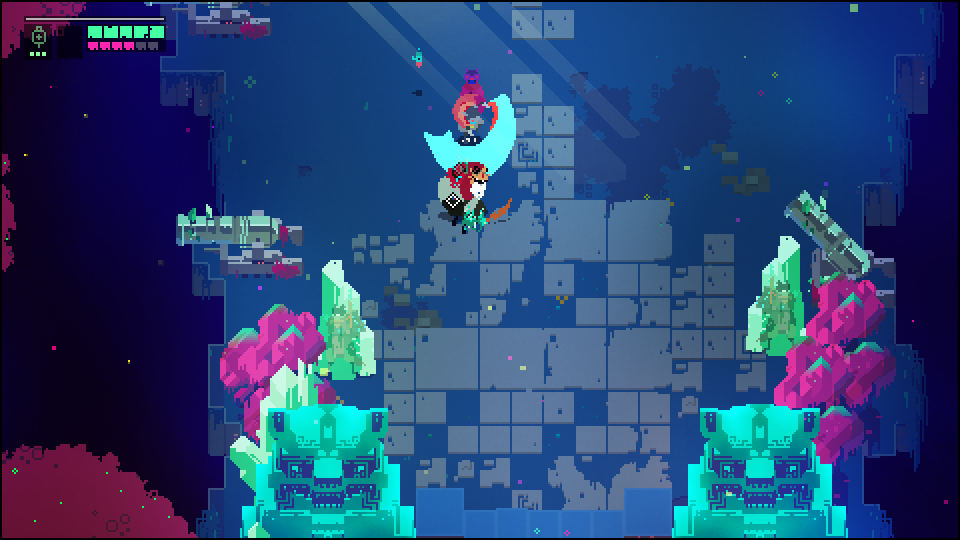hanged_man: (428, 158, 513, 233)
player: (416, 92, 513, 160)
